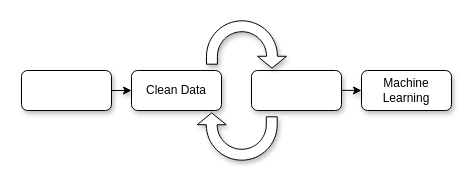
This 475x185 diagram has some shape labels left out. Here are the shapes that lost their labels. From the top down, the centre of each, then its label:
At point (67, 92): "Scraping".
At point (297, 92): "EDA".
